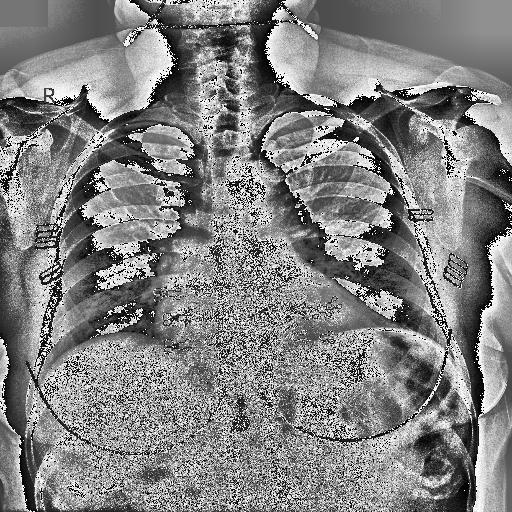0- Aortic enlargement: (228, 160, 307, 246), (224, 158, 298, 236), (230, 161, 298, 231)
11- Pleural thickening: (283, 104, 331, 114), (126, 121, 156, 130)
3- Cardiomegaly: (151, 292, 386, 351), (150, 288, 380, 344), (153, 286, 395, 339)
